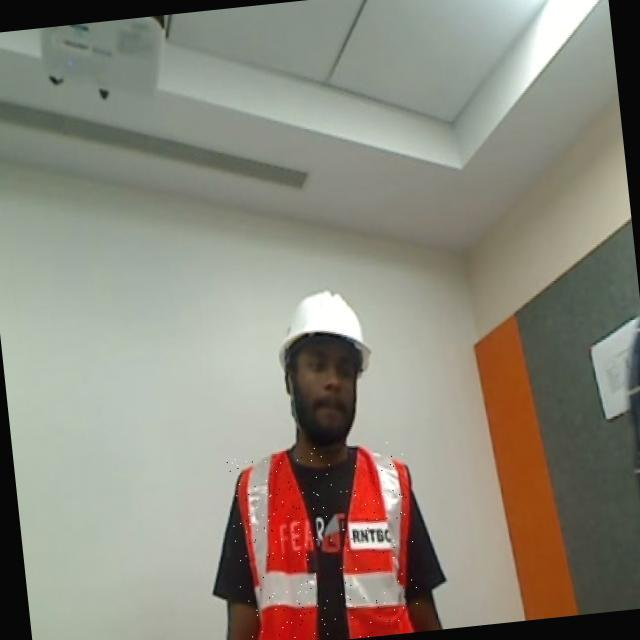helmet: (273, 277, 378, 373)
vest: (225, 438, 423, 640)
